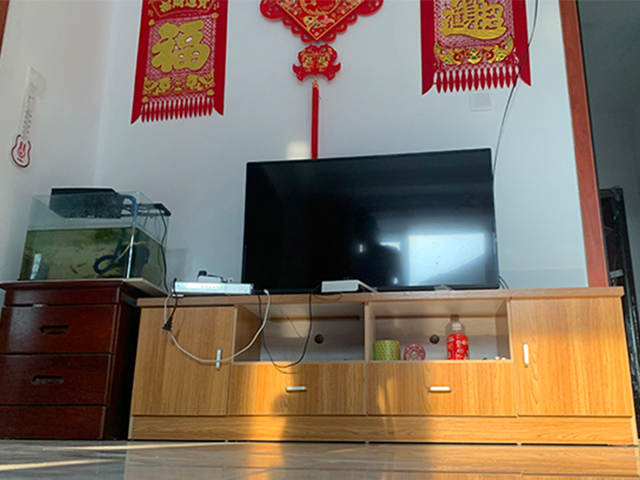cabinet: (124, 285, 640, 448), (1, 278, 146, 441)
wire: (156, 267, 322, 371)
